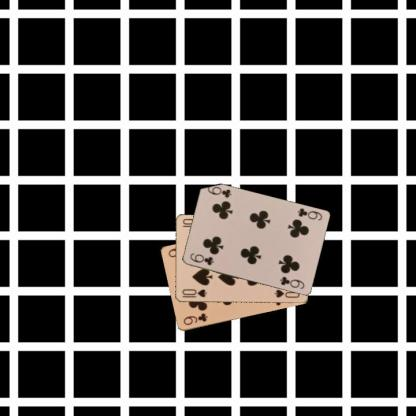10s: (180, 286, 208, 298)
6c: (187, 251, 215, 267), (295, 206, 323, 222)
9c: (181, 311, 208, 326)
